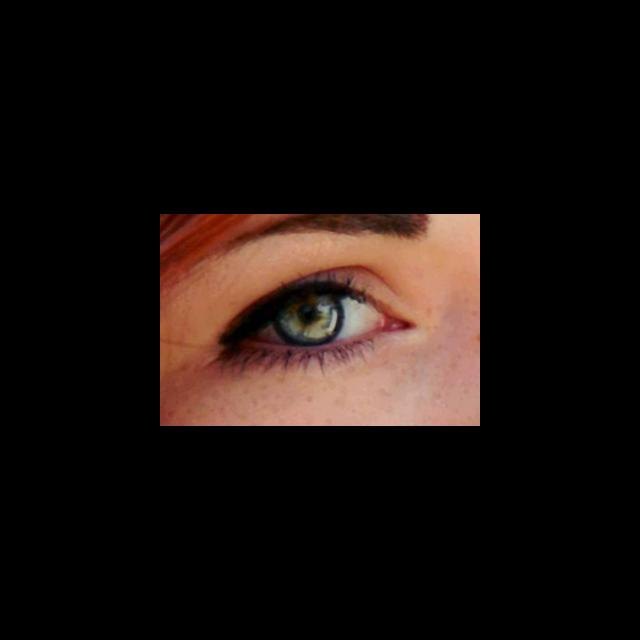eye: (261, 295, 382, 349)
iris: (273, 298, 340, 344)
